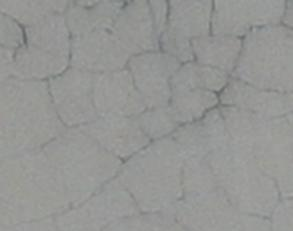fissura: (16, 11, 293, 170)
